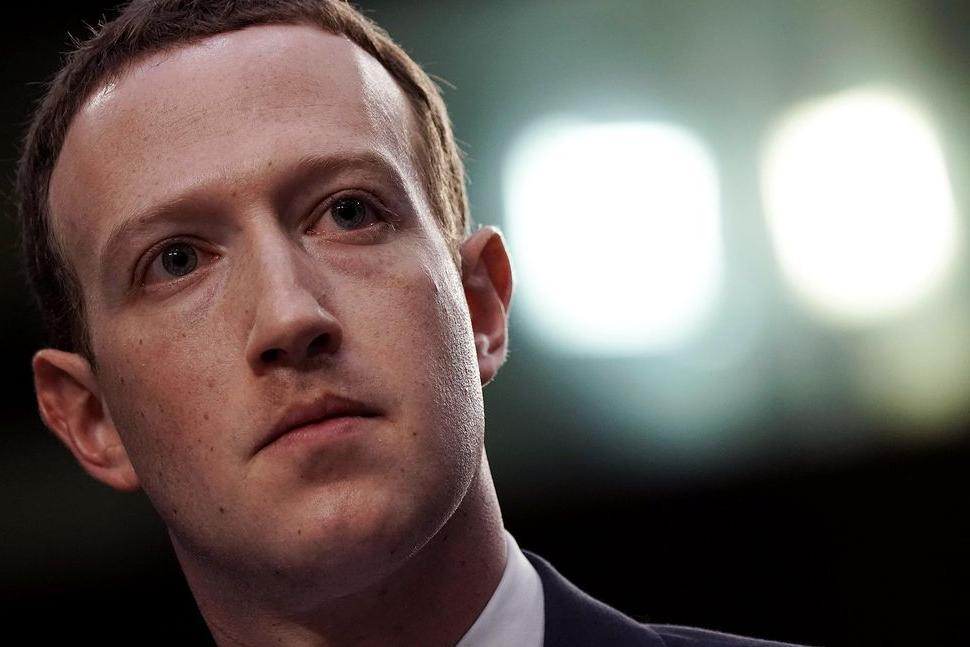Sober: (105, 93, 445, 518)
